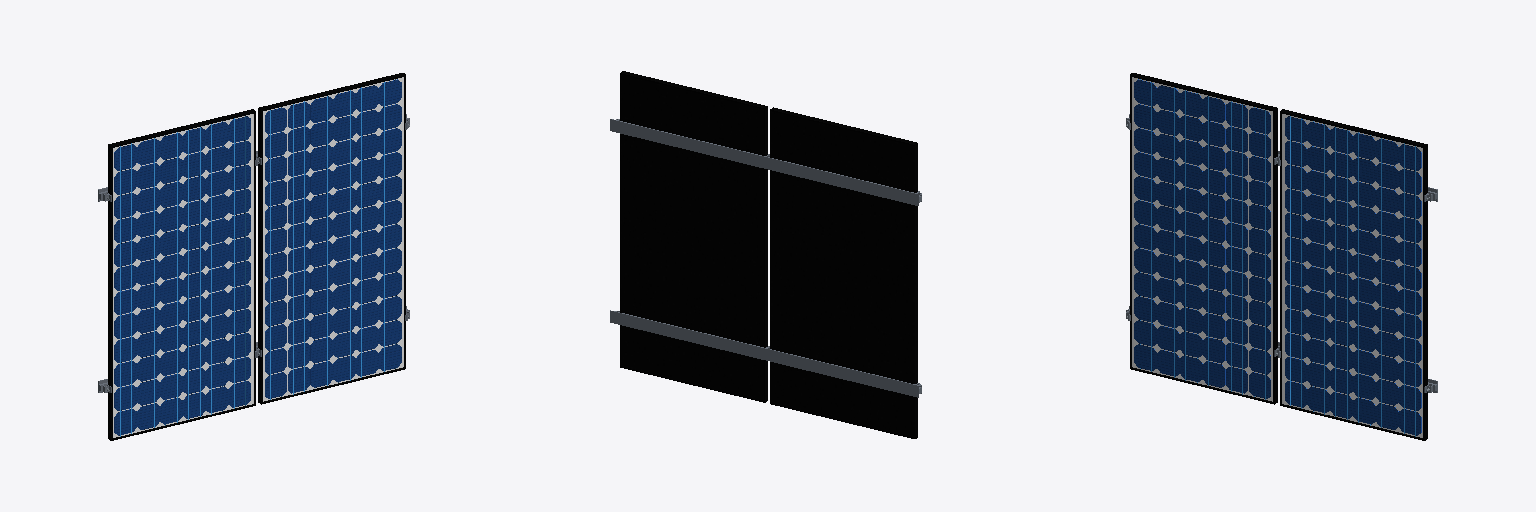
3 views of the same model, side by side, from view 1: azimuth 30°, elevation 25°; view 2: azimuth 150°, elevation 25°; view 3: azimuth 330°, elevation 25° (orthographic).
Parts seen in each view (by area): view 1: small_032panels, panel, wire, Default; view 2: panel, Default; view 3: small_032panels, panel, wire, Default.
Boxes of the visible parts, x1=… form: small_032panels: x1=114, y1=79, x2=401, y2=435; panel: x1=108, y1=73, x2=405, y2=440; wire: x1=120, y1=79, x2=395, y2=436; Default: x1=98, y1=114, x2=409, y2=392; panel: x1=620, y1=71, x2=917, y2=438; Default: x1=610, y1=119, x2=921, y2=397; small_032panels: x1=1134, y1=79, x2=1421, y2=435; panel: x1=1130, y1=73, x2=1427, y2=440; wire: x1=1140, y1=79, x2=1415, y2=436; Default: x1=1126, y1=114, x2=1437, y2=392.
Bounding box in the file's own units: 167 × 152 × 6.33.
Materials: 2 (2 with a texture image).